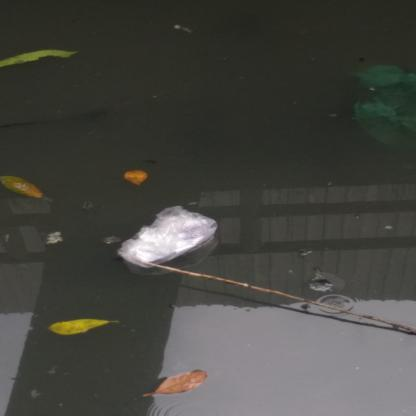plastik: (118, 207, 220, 269)
